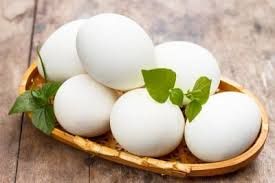eggs: (75, 18, 154, 82), (30, 20, 108, 74), (115, 91, 175, 156), (191, 86, 249, 146), (156, 36, 208, 90), (50, 72, 100, 121)
